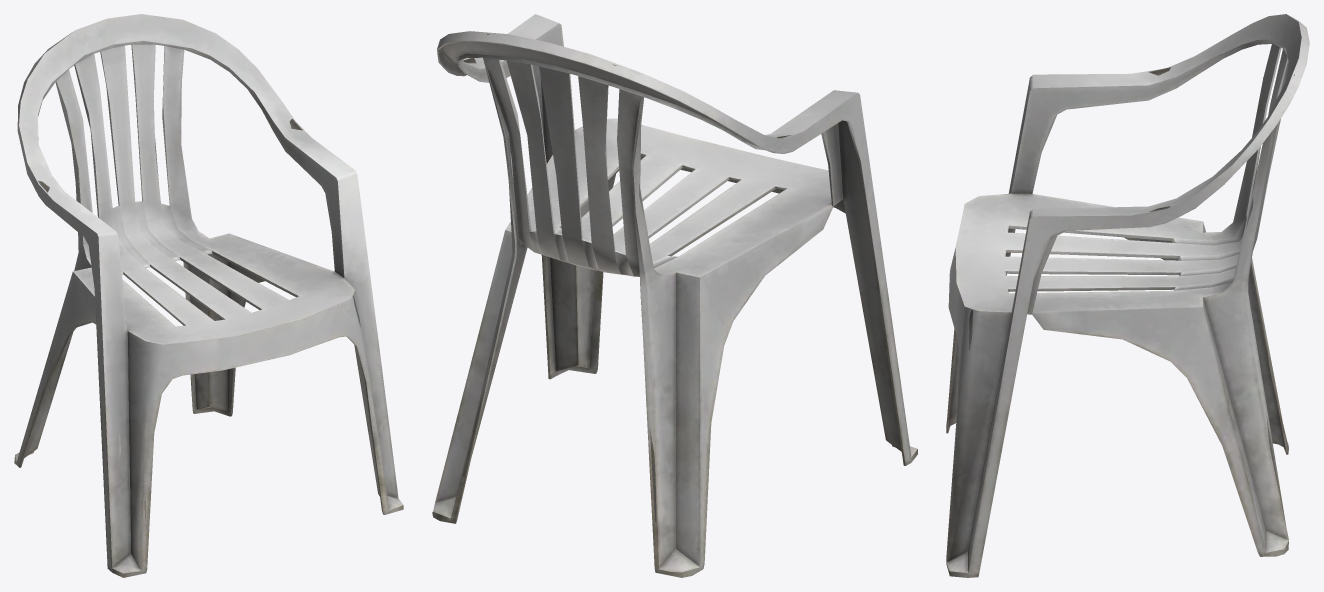
The model's file is ph_plastic_monobloc_chair_01.glb.
3 views of the same model, side by side, from view 1: azimuth 30°, elevation 25°; view 2: azimuth 150°, elevation 25°; view 3: azimuth 270°, elevation 25° (orthographic). The views are drawn at different scales.
Visible parts, largest first — view 1: plastic_monobloc_chair_01; view 2: plastic_monobloc_chair_01; view 3: plastic_monobloc_chair_01.
Boxes of the visible parts, x1=… form: plastic_monobloc_chair_01: x1=14, y1=14, x2=403, y2=577; plastic_monobloc_chair_01: x1=432, y1=14, x2=917, y2=577; plastic_monobloc_chair_01: x1=946, y1=14, x2=1309, y2=577.
Size of the model in its own units: 0.6419 by 0.8798 by 0.6276.
1 material, 1 textured.
